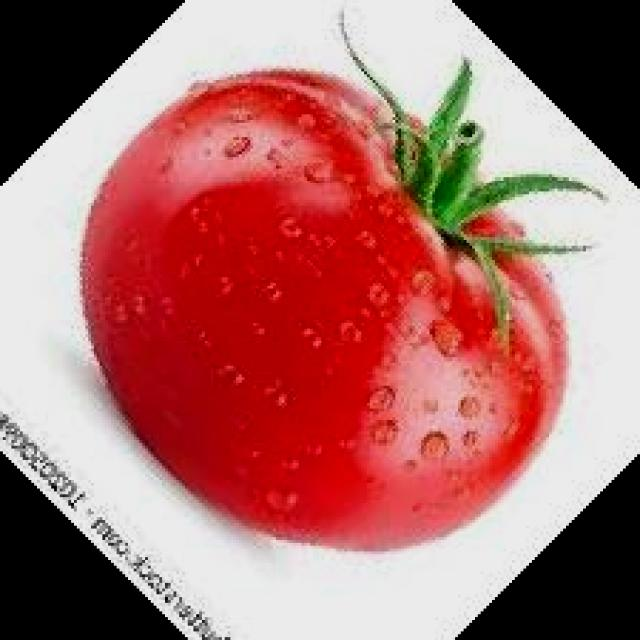tomato: (72, 70, 572, 557)
